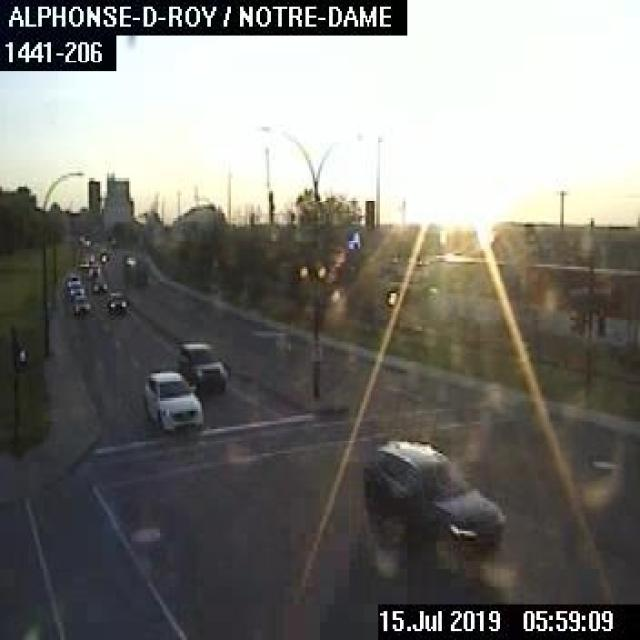vehicle: (364, 438, 507, 551), (140, 367, 203, 431), (174, 337, 230, 395), (106, 292, 129, 316), (70, 293, 92, 317), (89, 275, 110, 293), (85, 263, 102, 279), (66, 284, 86, 297), (63, 271, 81, 285)
